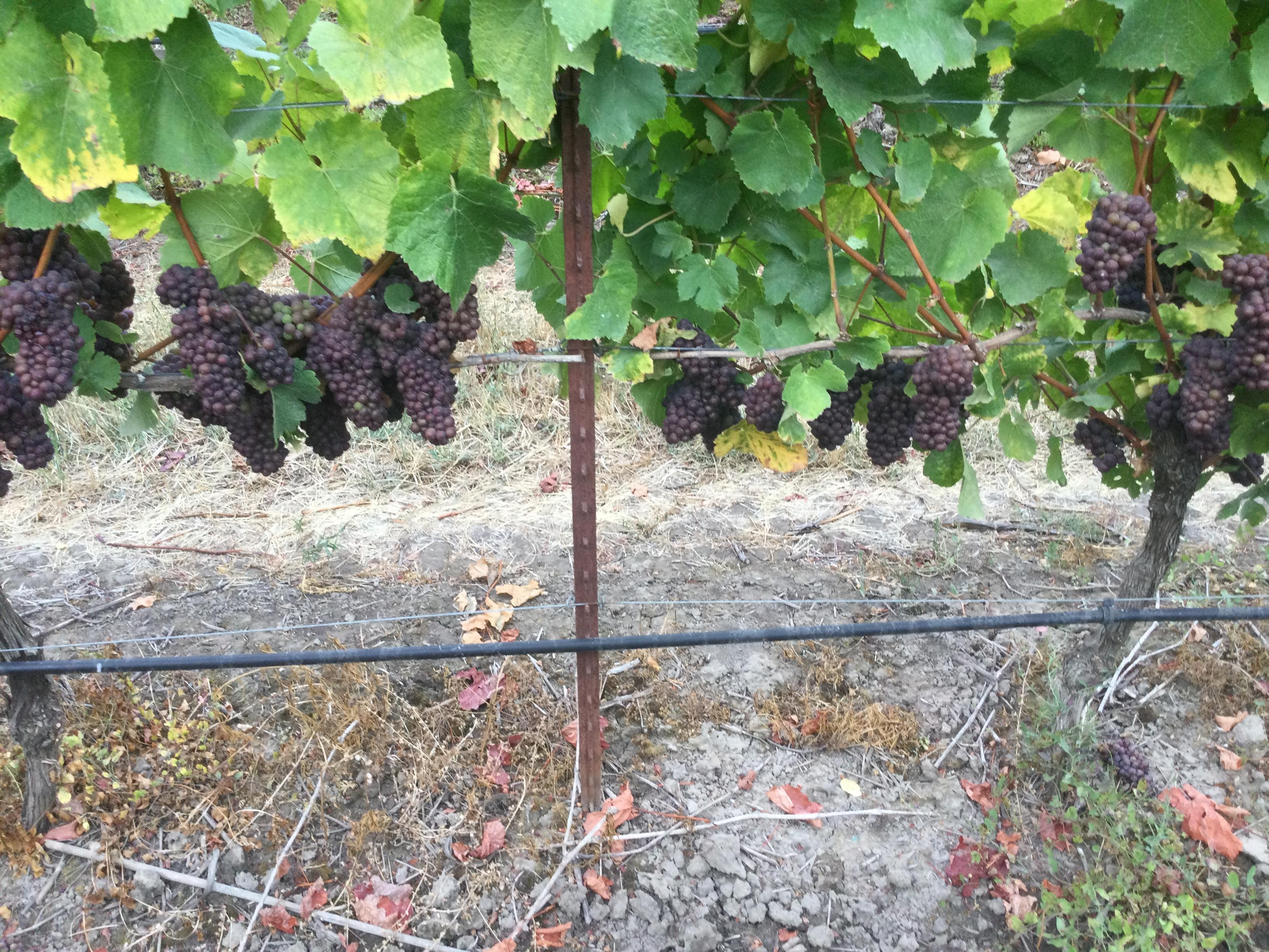leaf: (0, 16, 136, 201), (105, 12, 243, 180), (386, 165, 535, 301), (261, 113, 399, 258), (469, 0, 592, 128), (307, 0, 453, 107), (897, 162, 1010, 280), (408, 53, 498, 174), (182, 184, 282, 286), (853, 0, 975, 83), (1102, 0, 1235, 75), (806, 43, 923, 122), (578, 43, 666, 146), (1166, 119, 1264, 203), (1045, 107, 1135, 190), (728, 109, 815, 193), (564, 249, 637, 340), (986, 229, 1069, 304), (610, 0, 697, 68), (3, 175, 110, 229), (1158, 200, 1239, 270), (670, 154, 740, 231), (762, 239, 830, 315), (1012, 179, 1087, 247), (751, 0, 841, 56), (713, 420, 807, 472), (291, 239, 362, 296), (736, 304, 815, 355), (272, 358, 321, 440), (98, 182, 168, 239), (91, 0, 190, 40), (783, 360, 848, 420), (1187, 51, 1252, 105), (678, 254, 739, 310), (543, 0, 615, 47), (223, 89, 284, 142), (209, 22, 279, 62), (894, 137, 933, 203), (1035, 289, 1083, 338), (63, 224, 113, 270), (75, 352, 121, 398), (998, 408, 1037, 461), (923, 439, 964, 487), (631, 376, 670, 425), (836, 334, 889, 369), (284, 0, 321, 50), (118, 391, 158, 436), (160, 216, 194, 268), (601, 349, 653, 382), (855, 128, 889, 177), (652, 220, 692, 261), (250, 0, 288, 42), (958, 460, 985, 519), (1249, 23, 1268, 105), (1002, 344, 1046, 378), (776, 406, 808, 444), (733, 318, 764, 356), (1045, 436, 1067, 486), (1239, 119, 1260, 131), (241, 77, 253, 88), (837, 260, 845, 268), (1254, 128, 1261, 131), (257, 83, 262, 86), (591, 48, 593, 55), (1066, 169, 1073, 171), (458, 296, 461, 299), (766, 308, 772, 309), (1059, 172, 1065, 173), (926, 179, 927, 184), (275, 185, 276, 190), (1054, 177, 1055, 177)
